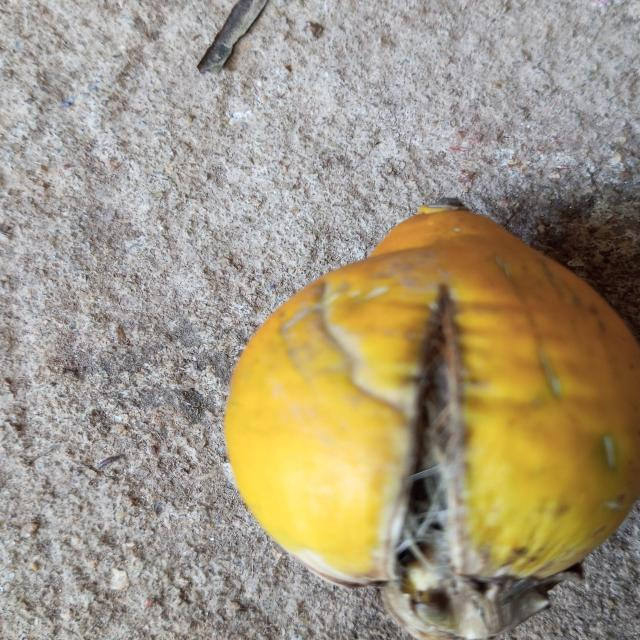damaged: (225, 200, 640, 640)
